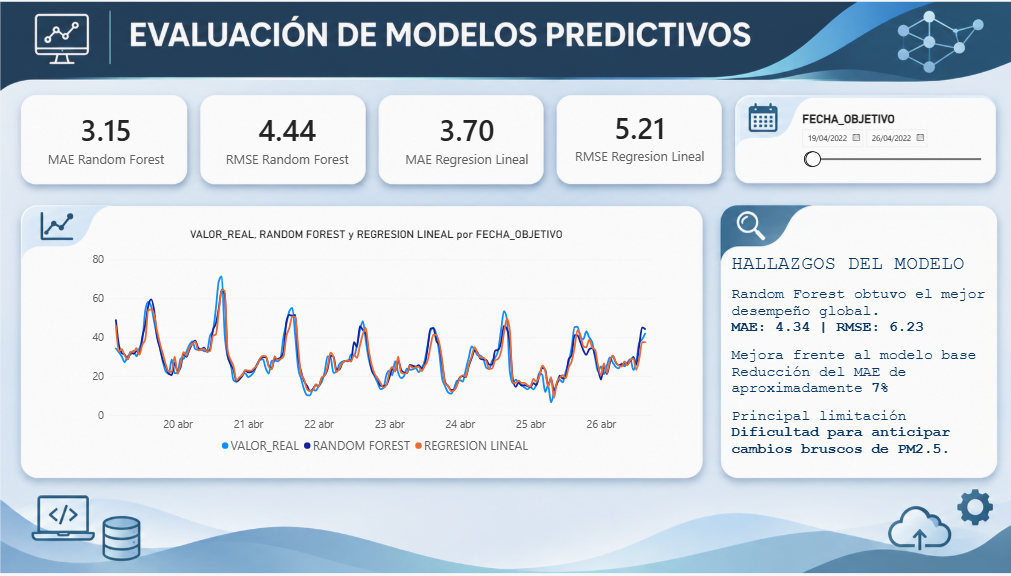

This screenshot's page, from the dashboard's own definition file:
{"tool":"powerbi","page":{"name":"Evaluación de modelo","canvas":[1920,1080],"ordinal":1},"visuals":[{"type":"cardVisual","fields":{"Data":["Prediciones.MAE Random Forest"]},"box":[181.1,220.2,234.6,142],"z":0},{"type":"cardVisual","fields":{"Data":["Prediciones.RMSE Random Forest"]},"box":[477.5,230.5,238.8,123.5],"z":1000},{"type":"cardVisual","fields":{"Data":["Prediciones.MAE Regresion Lineal"]},"box":[765.7,226.4,253.2,131.7],"z":2000},{"type":"cardVisual","fields":{"Data":["Prediciones.RMSE Regresion Lineal"]},"box":[1053.9,220.2,247,133.8],"z":3000},{"type":"lineChart","fields":{"Category":["Prediciones.FECHA_OBJETIVO"],"Y":["Avg(Prediciones.VALOR_REAL)","Avg(Prediciones.PREDICCION_RF)","Avg(Prediciones.PREDICCION_LINEAL)"]},"box":[259.3,424,967.4,405.5],"z":4000},{"type":"slicer","fields":{"Values":["Prediciones.FECHA_OBJETIVO"]},"box":[1436.7,247,321.1,142],"z":5000},{"type":"textbox","box":[1327.6,479.6,430.2,419.9],"z":5001}]}

Visuals, with their boxes in screenshot pixels (x1, y1, x2, y2), scaled from the page's 1920x1080 canvas onto the 1011x576 screenshot:
cardVisual - Prediciones.MAE Random Forest: (95, 117, 219, 193)
cardVisual - Prediciones.RMSE Random Forest: (251, 123, 377, 189)
cardVisual - Prediciones.MAE Regresion Lineal: (403, 121, 537, 191)
cardVisual - Prediciones.RMSE Regresion Lineal: (555, 117, 685, 189)
lineChart - Prediciones.FECHA_OBJETIVO x Avg(Prediciones.VALOR_REAL): (137, 226, 646, 442)
slicer - Prediciones.FECHA_OBJETIVO: (757, 132, 926, 207)
textbox: (699, 256, 926, 480)
